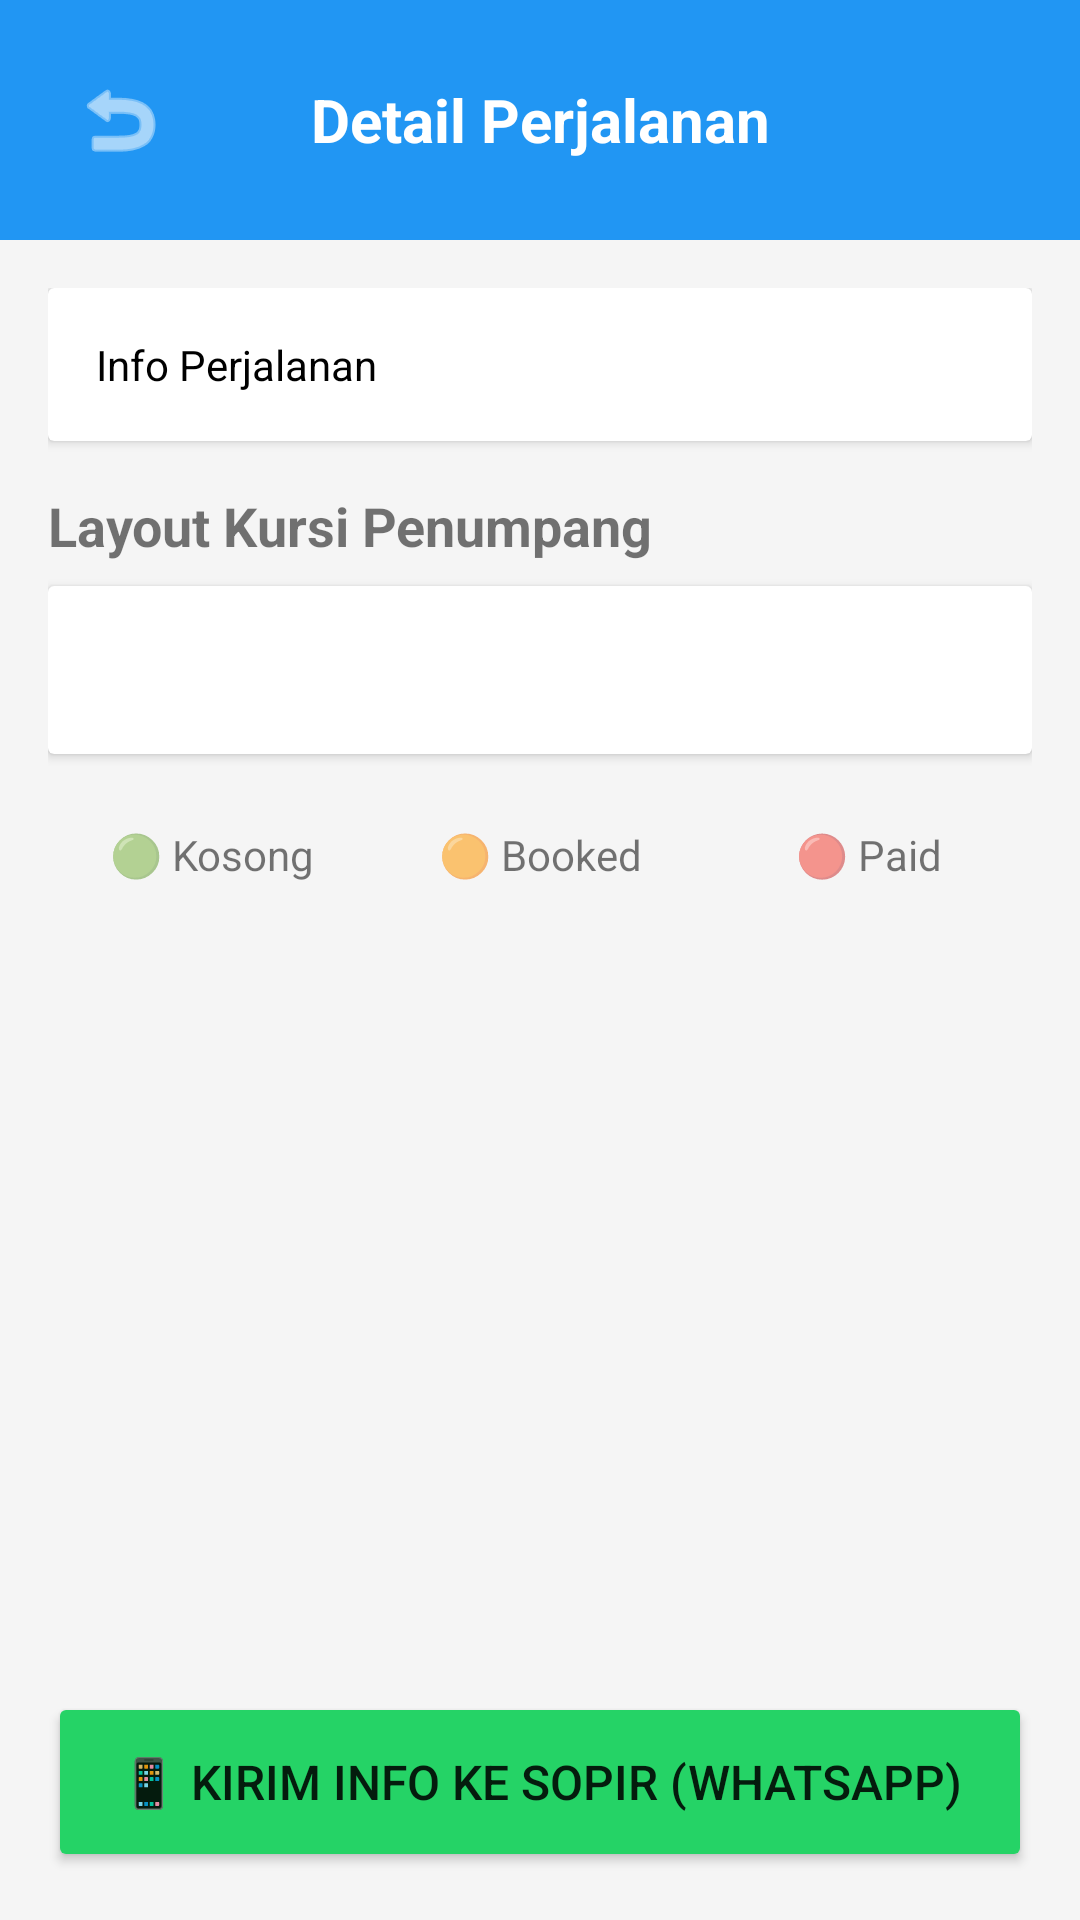

Named icons in this screenshot (1080 × 1920) and their centers, (x,y):
revert: (121,120)
